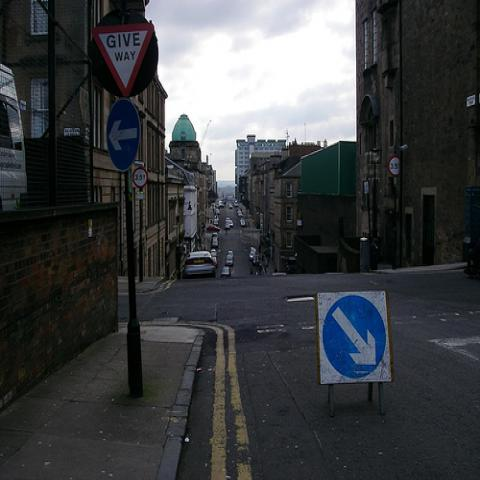car: (183, 250, 215, 279), (224, 195, 246, 220), (225, 253, 234, 266), (206, 224, 220, 232), (225, 217, 233, 231), (221, 266, 230, 278), (227, 248, 235, 261), (212, 255, 218, 268), (211, 232, 219, 241), (249, 250, 256, 260), (252, 255, 259, 264), (210, 248, 217, 256), (240, 217, 246, 226), (212, 243, 218, 249)
truck: (0, 64, 26, 209)
